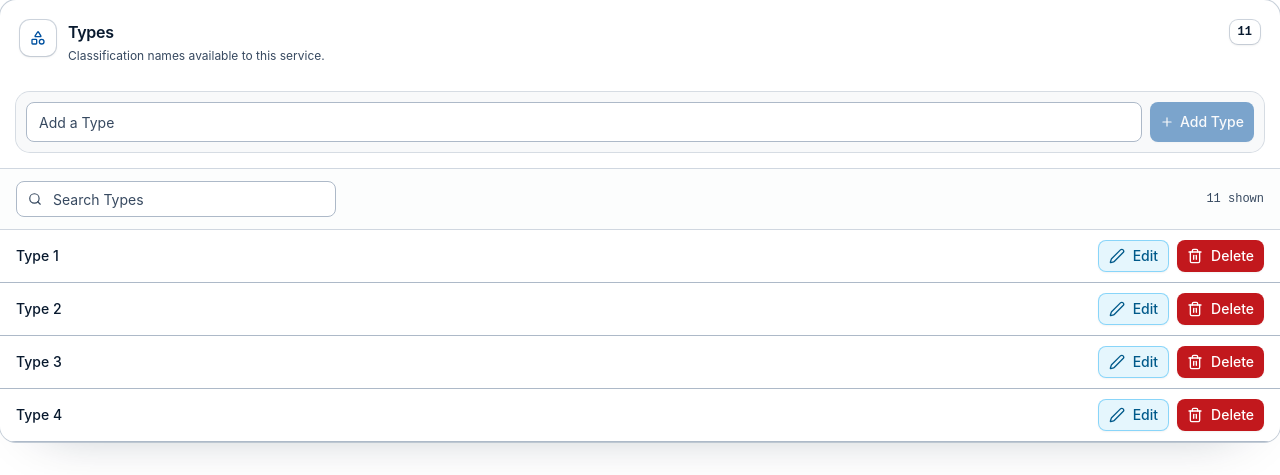
CommodityTypesTable › searches Types by name and keeps a four-row scroll viewport
Expected: the element named "Types catalog" is shown, [0, 230, 1279, 442]
Type "liquid" into the search field labelled "Search Types" at [176, 199], box [16, 181, 336, 217]
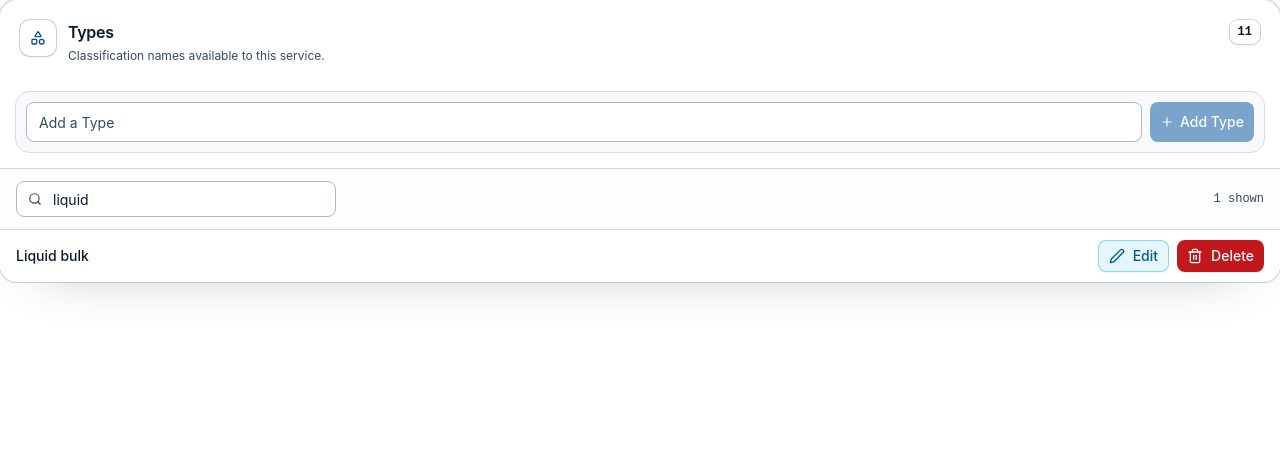
Expected: the text "1 shown" is shown, [1214, 191, 1264, 207]
Result: the text "Liquid bulk" is shown at [0, 230, 1082, 282]
